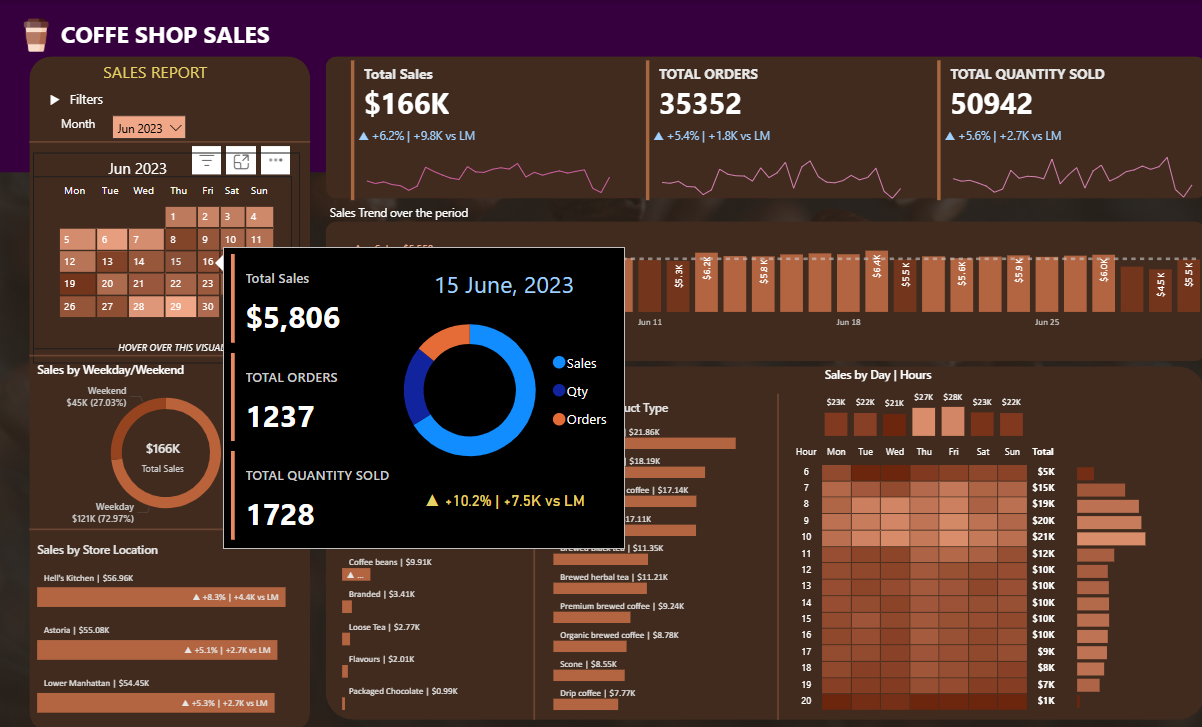

This screenshot's page, from the dashboard's own definition file:
{"tool":"powerbi","page":{"name":"Page 1","canvas":[1400,850],"ordinal":0},"visuals":[{"type":"shape","box":[0,0,1400.3,199.6],"z":0},{"type":"shape","box":[36,64.5,325.7,785],"z":1000},{"type":"shape","box":[379.7,64.5,1020.6,165.1],"z":2000},{"type":"slicer","fields":{"Values":["Date Table.Month Year"]},"box":[127.5,128.9,95.6,36.2],"z":3000},{"type":"group","id":"g1","title":"Group 1","box":[404.1,65.2,320.1,172.4],"z":4000},{"type":"cardVisual","fields":{"Data":["Transactions.Total Sales"]},"box":[404.1,65.2,320.1,172.4],"z":4000,"group":"g1"},{"type":"cardVisual","fields":{"Data":["Transactions.TOTAL ORDERS"]},"box":[746,65.2,315.4,172.3],"z":4000,"group":"g2"},{"type":"cardVisual","fields":{"Data":["Transactions.TOTAL QUANTITY SOLD"]},"box":[1083.5,65.2,315.4,172.3],"z":4000,"group":"g3"},{"type":"group","id":"g2","title":"Group 1","box":[746,65.2,315.8,172.4],"z":5000},{"type":"lineChart","fields":{"Category":["Date Table.Date Hierarchy.Date"],"Y":["Transactions.TOTAL ORDERS"]},"box":[755,148.2,306.5,89.3],"z":5000,"group":"g2"},{"type":"lineChart","fields":{"Category":["Date Table.Date Hierarchy.Date"],"Y":["Transactions.TOTAL QUANTITY SOLD"]},"box":[1092.5,148.2,306.5,89.3],"z":5000,"group":"g3"},{"type":"lineChart","fields":{"Category":["Date Table.Date Hierarchy.Date"],"Y":["Transactions.Total Sales"]},"box":[413.2,148.3,311,89.3],"z":5000,"group":"g1"},{"type":"group","id":"g3","title":"Group 1","box":[1083.5,65.2,315.8,172.4],"z":6000},{"type":"group","id":"g4","title":"Group 2","box":[40.6,176.7,310,244.8],"z":7000},{"type":"pivotTable","fields":{"Rows":["Date Table.Week number"],"Columns":["Date Table.Day Name"],"Values":["Min(Date Table.Day Number)"]},"box":[40.6,204.2,299.8,201.3],"z":7000,"group":"g4"},{"type":"card","fields":{"Values":["Min(Date Table.Month Year)"]},"box":[89.9,176.7,144.9,40.6],"z":8000,"group":"g4"},{"type":"shape","box":[36.2,399.8,325.9,24.6],"z":8000},{"type":"shape","box":[36.2,152.1,325.9,24.6],"z":9000},{"type":"card","fields":{"Values":["Transactions.FOOT NOTE"]},"box":[127.5,389.6,223.1,31.9],"z":9000,"group":"g4"},{"type":"donutChart","title":"Sales by Weekday/Weekend","fields":{"Category":["Date Table.Weekday/Weekend"],"Y":["Transactions.Total Sales"]},"box":[40.6,418.6,308.5,195.6],"z":10000},{"type":"card","fields":{"Values":["Transactions.Total Sales"]},"box":[147.8,504.1,86.9,49.3],"z":11000},{"type":"shape","box":[36.2,601.1,325.9,24.6],"z":12000},{"type":"clusteredBarChart","title":"Sales by Store Location","fields":{"Category":["Transactions.store_location"],"Y":["Transactions.Placeholder","Transactions.Total Sales"]},"box":[40.6,627.2,321.6,207.1],"z":13000},{"type":"shape","box":[379.5,256.4,1019.8,162.2],"z":14000},{"type":"columnChart","title":"Sales Trend over the period","fields":{"Category":["Transactions.transaction_date"],"Y":["Transactions.Total Sales"]},"box":[379.5,237.6,1019.8,152.1],"z":15000},{"type":"shape","box":[379.5,424.4,1019.8,409.9],"z":16000},{"type":"clusteredBarChart","title":"Sales by Product Category","fields":{"Y":["Transactions.Placeholder","Transactions.Total Sales"],"Category":["Transactions.product_category"]},"box":[394,463.5,250.6,365],"z":17000},{"type":"shape","box":[598.2,456.3,46.4,378.1],"z":18000},{"type":"clusteredBarChart","title":"Sales by Product Type","fields":{"Y":["Transactions.Placeholder","Transactions.Total Sales"],"Category":["Transactions.product_type"]},"box":[638.8,463.5,250.6,365],"z":19000},{"type":"shape","box":[880.7,456.3,46.4,378.1],"z":20000},{"type":"pivotTable","fields":{"Rows":["Transactions.Hour"],"Columns":["Date Table.Day Name"],"Values":["Transactions.Total Sales"]},"box":[914,511.3,339,323],"z":21000},{"type":"barChart","fields":{"Category":["Transactions.Hour"],"Y":["Transactions.Total Sales"]},"box":[1245.7,528.7,121.7,297],"z":22000},{"type":"columnChart","title":"Sales by Day | Hours","fields":{"Category":["Date Table.Day Name"],"Y":["Transactions.Total Sales"]},"box":[953.1,424.4,240.5,86.9],"z":23000},{"type":"textbox","box":[68.1,128.9,59.4,36.2],"z":24000},{"type":"textbox","box":[55,99.9,107.2,47.8],"z":25000},{"type":"textbox","box":[68.1,15.9,344.8,49.3],"z":26000},{"type":"textbox","box":[68.1,65.2,223.1,34.8],"z":27000},{"type":"image","box":[20.3,15.9,47.8,49.3],"z":28000}]}

Visuals, with their boxes in screenshot pixels (x1, y1, x2, y2), scaled from the page's 1400x850 canvas onto the 1202x727 screenshot:
shape: (0, 0, 1201, 171)
shape: (31, 55, 311, 726)
shape: (326, 55, 1201, 196)
slicer - Date Table.Month Year: (109, 110, 192, 141)
"Group 1" group: (347, 56, 622, 203)
cardVisual - Transactions.Total Sales: (347, 56, 622, 203)
cardVisual - Transactions.TOTAL ORDERS: (640, 56, 911, 203)
cardVisual - Transactions.TOTAL QUANTITY SOLD: (930, 56, 1201, 203)
"Group 1" group: (640, 56, 912, 203)
lineChart - Date Table.Date Hierarchy.Date x Transactions.TOTAL ORDERS: (648, 127, 911, 203)
lineChart - Date Table.Date Hierarchy.Date x Transactions.TOTAL QUANTITY SOLD: (938, 127, 1201, 203)
lineChart - Date Table.Date Hierarchy.Date x Transactions.Total Sales: (355, 127, 622, 203)
"Group 1" group: (930, 56, 1201, 203)
"Group 2" group: (35, 151, 301, 361)
pivotTable - Date Table.Week number x Date Table.Day Name: (35, 175, 292, 347)
card - Min(Date Table.Month Year): (77, 151, 202, 186)
shape: (31, 342, 311, 363)
shape: (31, 130, 311, 151)
card - Transactions.FOOT NOTE: (109, 333, 301, 361)
"Sales by Weekday/Weekend" donutChart: (35, 358, 300, 525)
card - Transactions.Total Sales: (127, 431, 202, 473)
shape: (31, 514, 311, 535)
"Sales by Store Location" clusteredBarChart: (35, 536, 311, 714)
shape: (326, 219, 1201, 358)
"Sales Trend over the period" columnChart: (326, 203, 1201, 333)
shape: (326, 363, 1201, 714)
"Sales by Product Category" clusteredBarChart: (338, 396, 553, 709)
shape: (514, 390, 553, 714)
"Sales by Product Type" clusteredBarChart: (548, 396, 764, 709)
shape: (756, 390, 796, 714)
pivotTable - Transactions.Hour x Date Table.Day Name: (785, 437, 1076, 714)
barChart - Transactions.Hour x Transactions.Total Sales: (1070, 452, 1174, 706)
"Sales by Day | Hours" columnChart: (818, 363, 1025, 437)
textbox: (58, 110, 109, 141)
textbox: (47, 85, 139, 126)
textbox: (58, 14, 355, 56)
textbox: (58, 56, 250, 86)
image: (17, 14, 58, 56)
